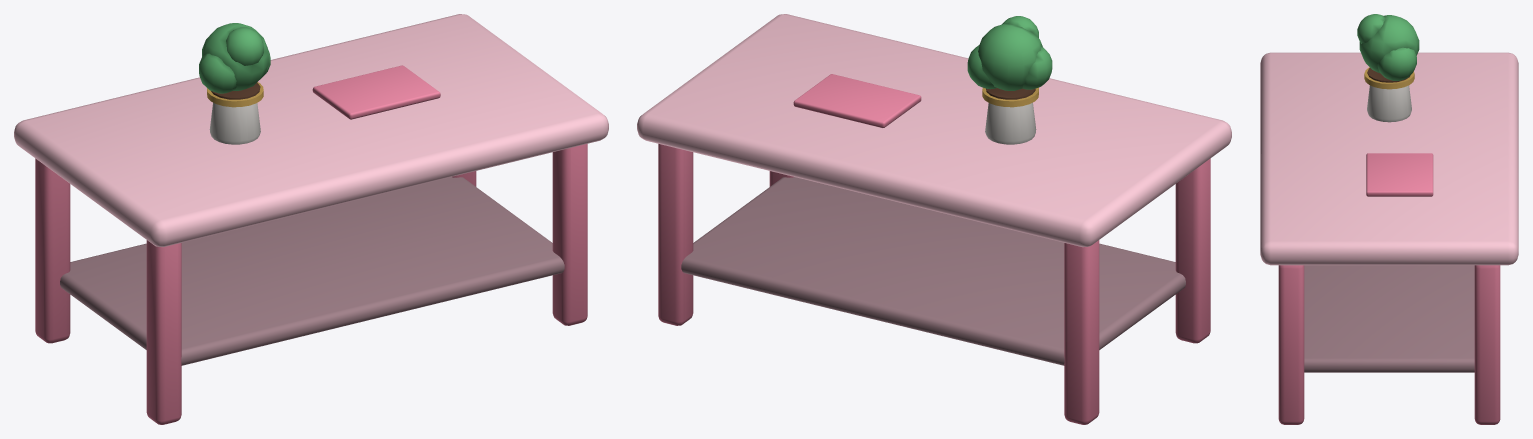
File: coffee-table-pastel.glb
The picture shows the model from 3 angles, left to right: view 1: azimuth 30°, elevation 25°; view 2: azimuth 150°, elevation 25°; view 3: azimuth 270°, elevation 25°; orthographic projection. The views are drawn at different scales.
Parts seen in each view (by area): view 1: coffee-table-pastel; view 2: coffee-table-pastel; view 3: coffee-table-pastel.
Part boxes in pixels (box(x1,y1,x2,y2)): coffee-table-pastel: box(14, 14, 608, 424); coffee-table-pastel: box(637, 14, 1231, 424); coffee-table-pastel: box(1260, 14, 1518, 424).
Size of the model in its own units: 0.9 by 0.6115 by 0.5.
